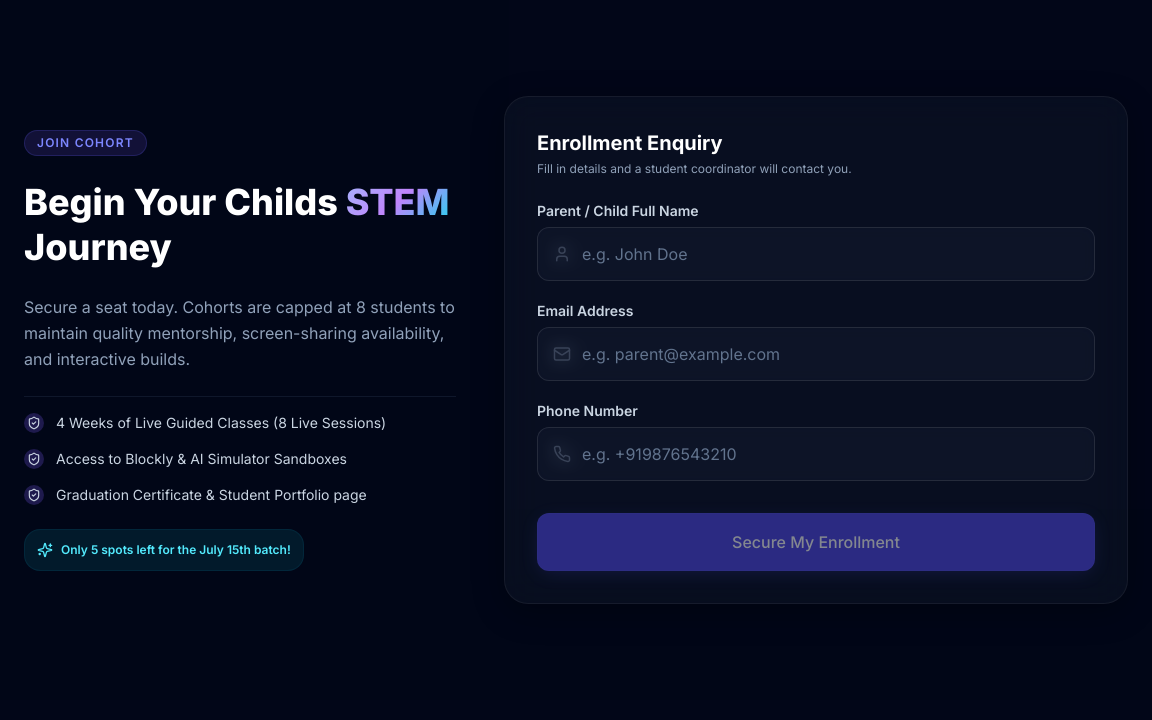
Registration Form Component › should enable the submit button when all fields have valid entries
In the field labelled "Parent / Child Full Name": point(816, 254) [537,227,1095,281], type "Sonia Gandhi"
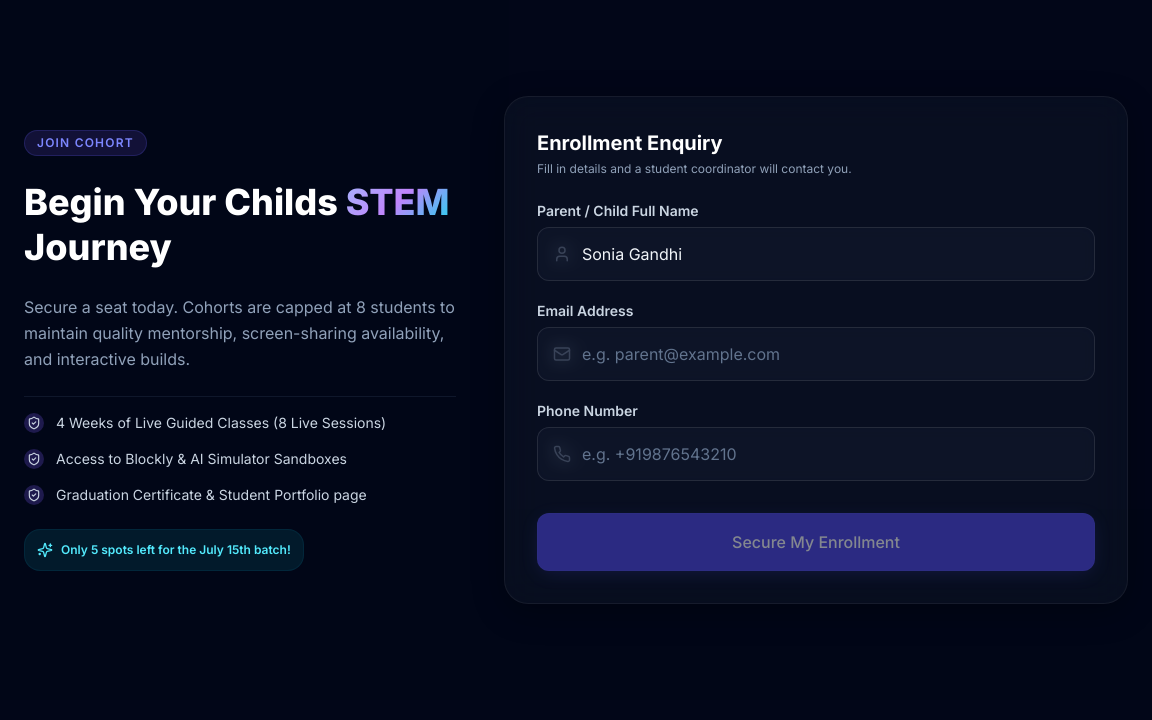
In the field labelled "Email Address": point(816, 354) [537,327,1095,381], type "sonia@example.com"
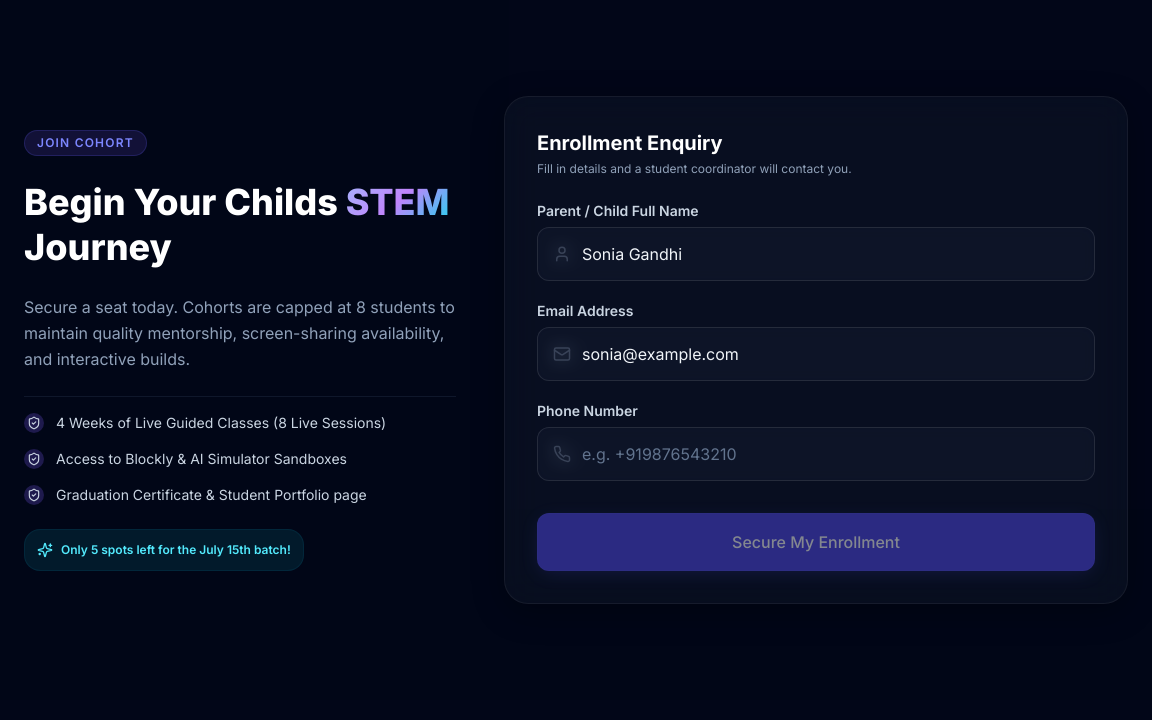
In the field labelled "Phone Number": point(816, 454) [537,427,1095,481], type "9876543210"
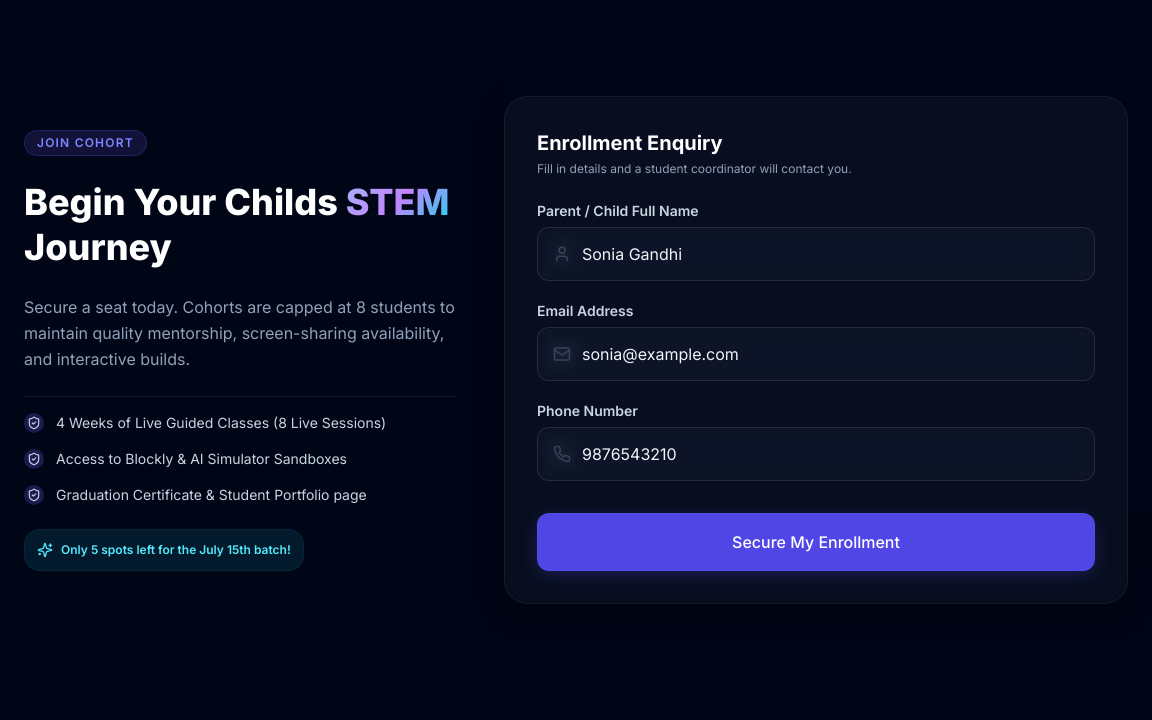
Check: the button "Secure My Enrollment" is enabled, box [537,513,1095,571]
